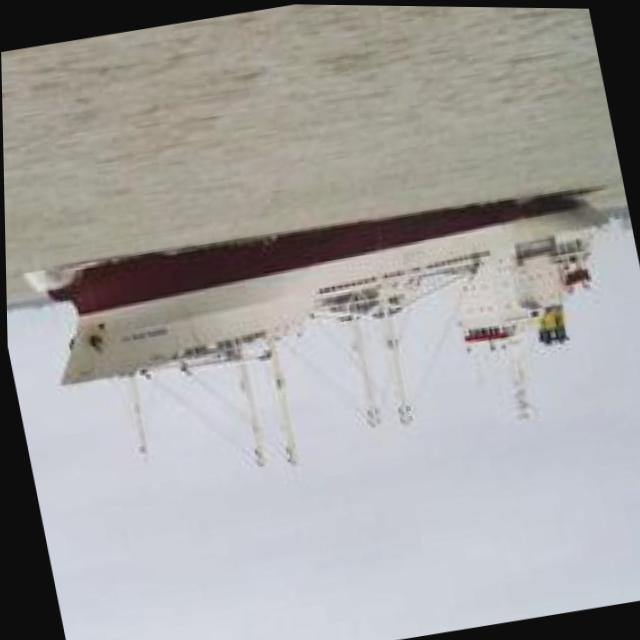ship2: (44, 191, 609, 466)
